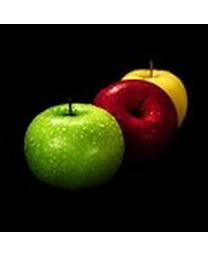apple: (23, 102, 124, 189), (91, 79, 177, 155), (122, 60, 187, 130)
